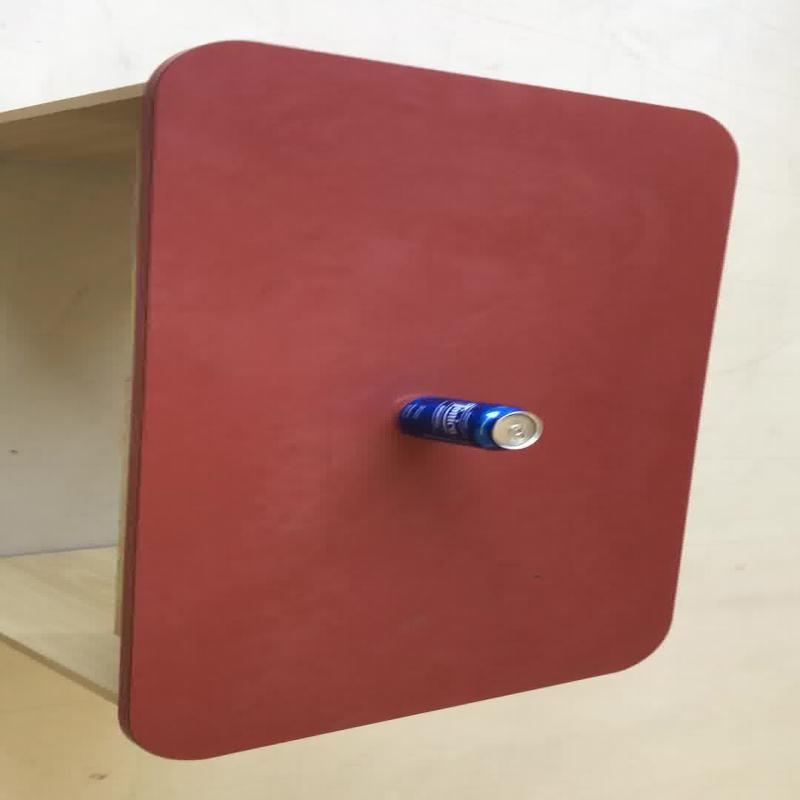tonic: (394, 394, 542, 450)
